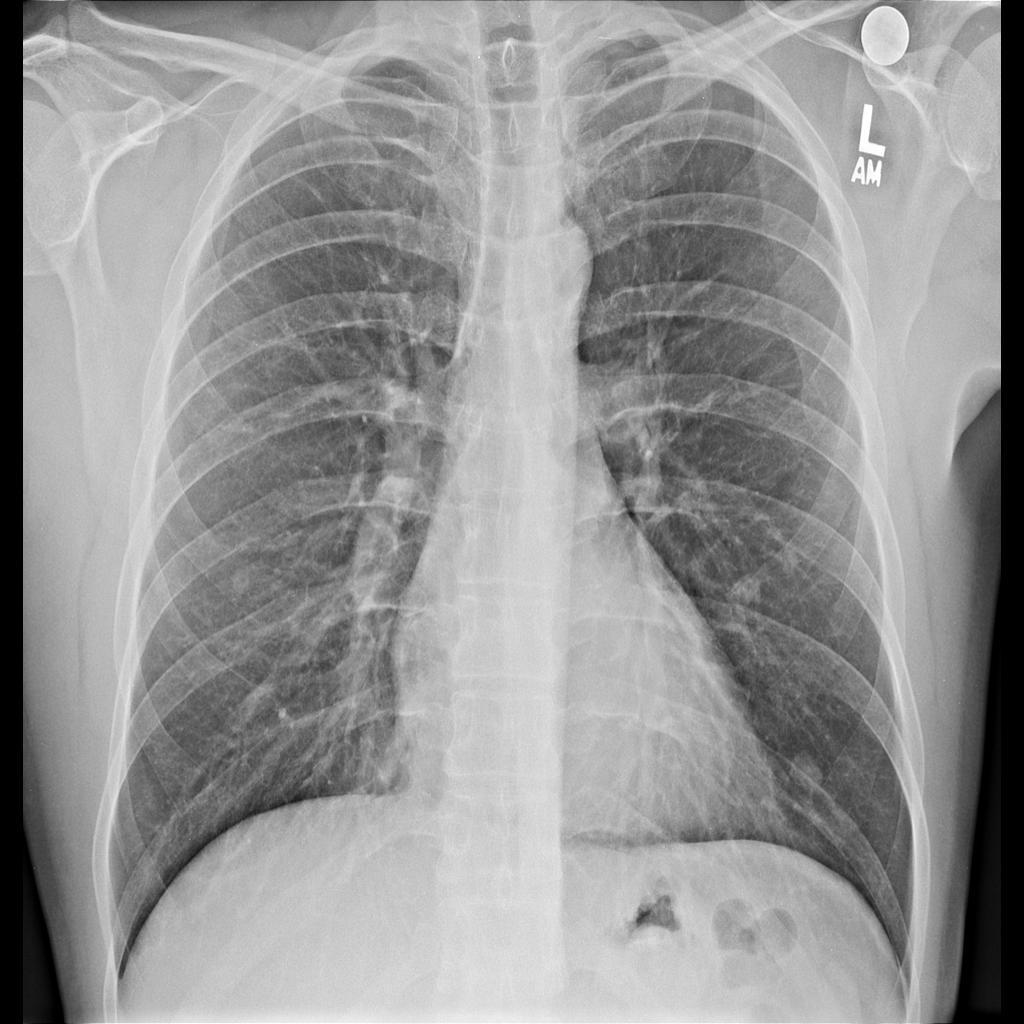Nodule: (787, 744, 831, 797), (728, 569, 765, 607)
